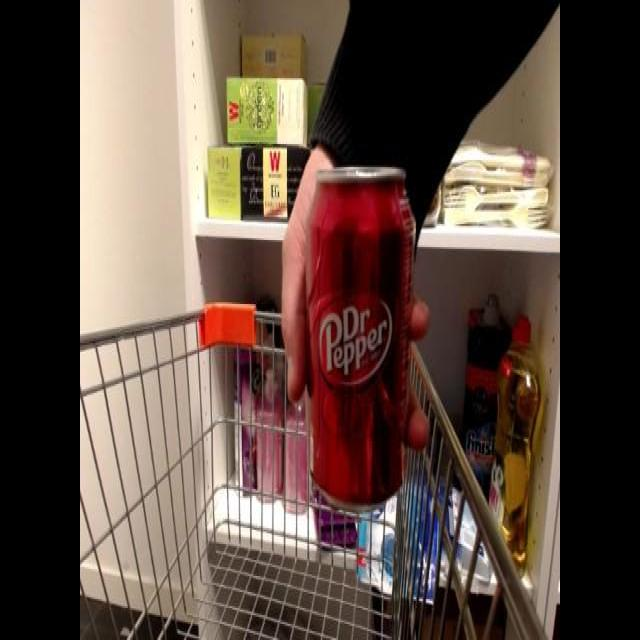Dr Pepper: (294, 157, 426, 518)
